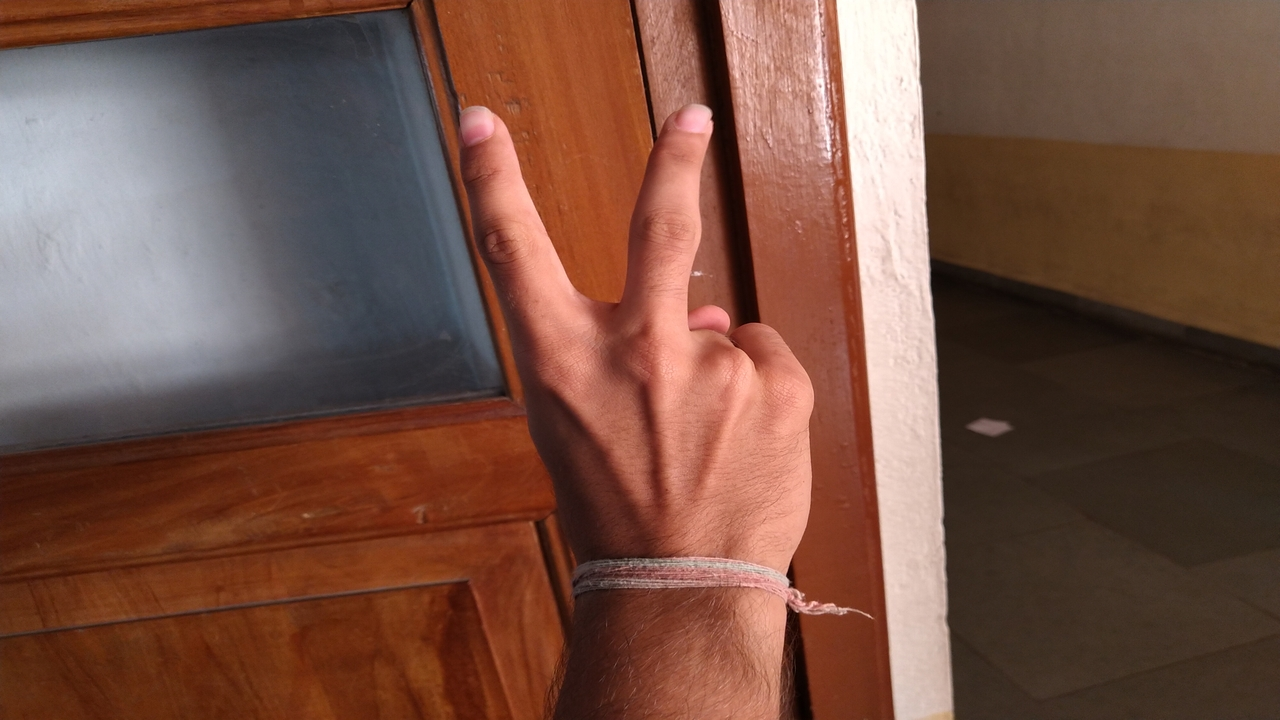fingertip: (656, 94, 722, 154), (450, 100, 512, 156)
